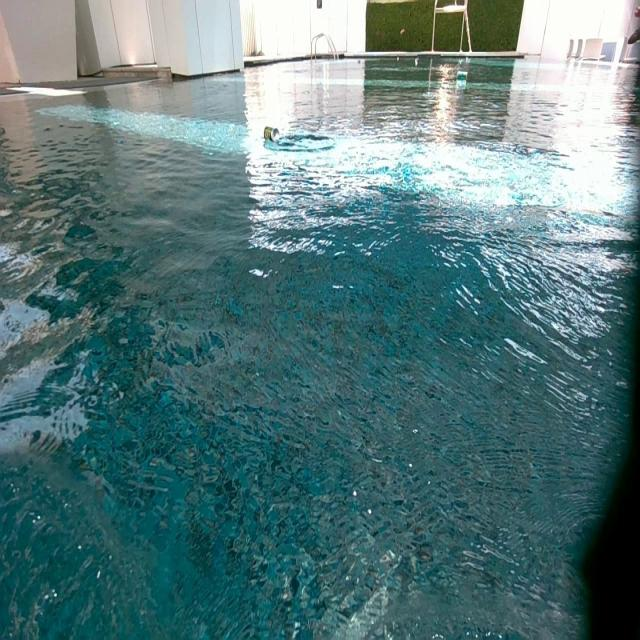Cans: (264, 127, 282, 143), (455, 72, 468, 82), (414, 58, 420, 66), (356, 60, 362, 64), (396, 57, 400, 62)
